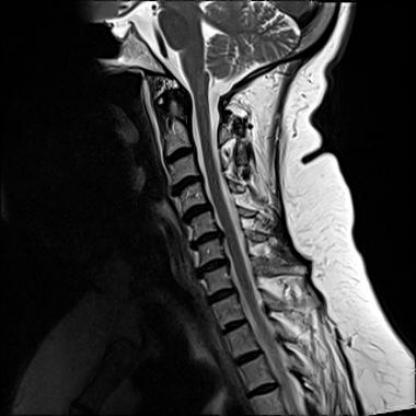Disc Bulgerotation: (188, 232, 224, 249)
